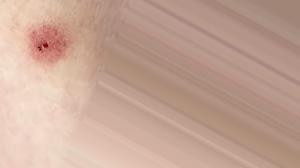Spider: (22, 19, 74, 70)
